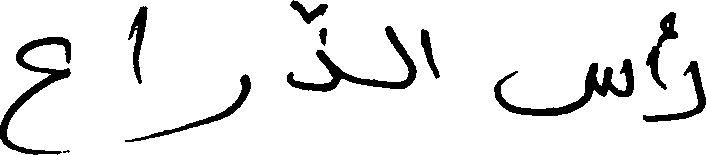أ: (647, 12, 667, 100)
ا: (131, 4, 147, 86), (418, 26, 441, 78)
ذ: (284, 0, 341, 93)
ر: (175, 71, 251, 131), (673, 10, 705, 120)
س: (492, 56, 635, 116)
ع: (0, 34, 71, 153)
ل: (383, 24, 415, 89)
